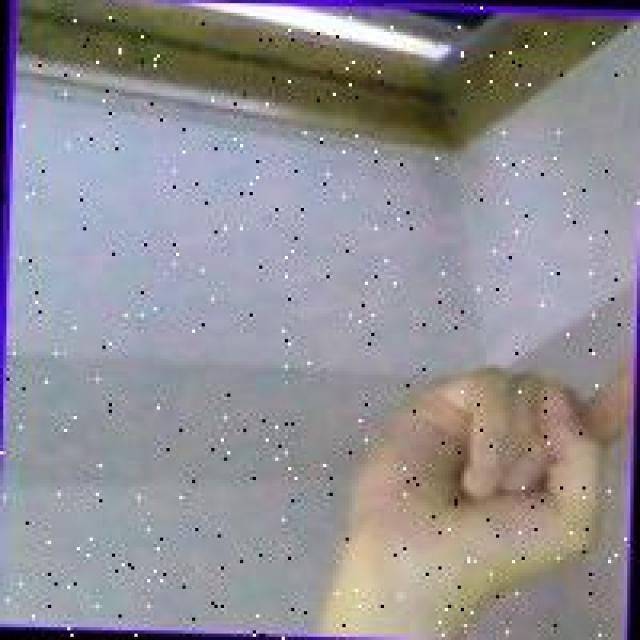Z: (346, 338, 627, 628)
